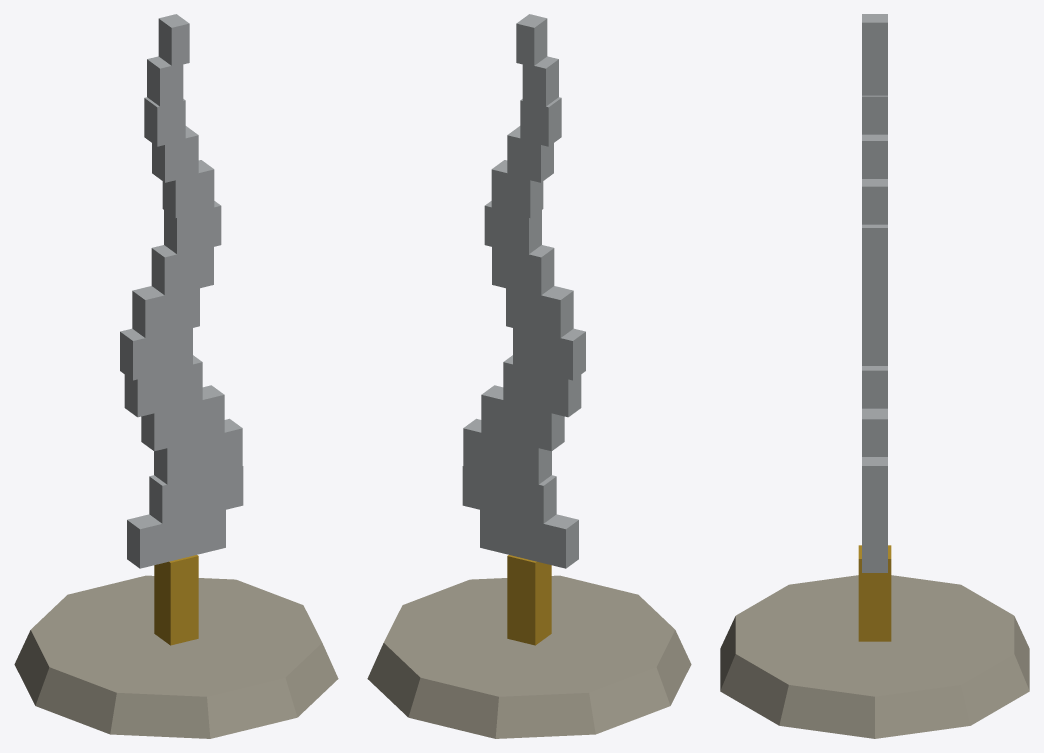
File: tugu-keris-lod0.glb
3 views of the same model, side by side, from view 1: azimuth 30°, elevation 25°; view 2: azimuth 150°, elevation 25°; view 3: azimuth 270°, elevation 25° (orthographic).
Visible parts, largest first — view 1: tugu-keris_LOD0; view 2: tugu-keris_LOD0; view 3: tugu-keris_LOD0.
Part boxes in pixels (x1,y1,x2,y2): tugu-keris_LOD0: (14,14,338,738); tugu-keris_LOD0: (367,14,691,738); tugu-keris_LOD0: (720,14,1029,738).
Bounding box in the file's own units: 10 × 22.05 × 9.51.
